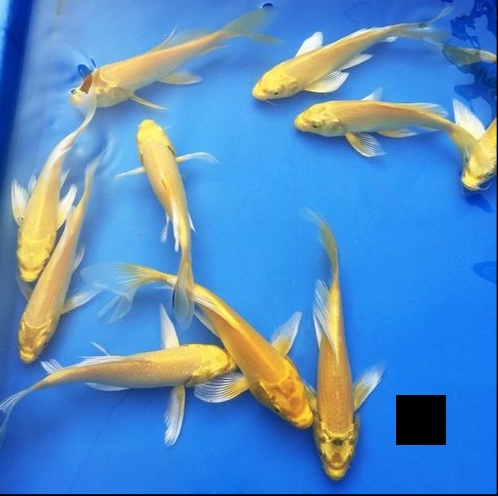fry: (297, 219, 384, 494), (45, 15, 275, 118), (246, 8, 490, 103), (192, 275, 320, 448), (21, 333, 236, 429), (6, 209, 112, 375), (124, 106, 207, 281), (3, 120, 89, 287), (293, 84, 464, 158), (440, 87, 496, 206)
